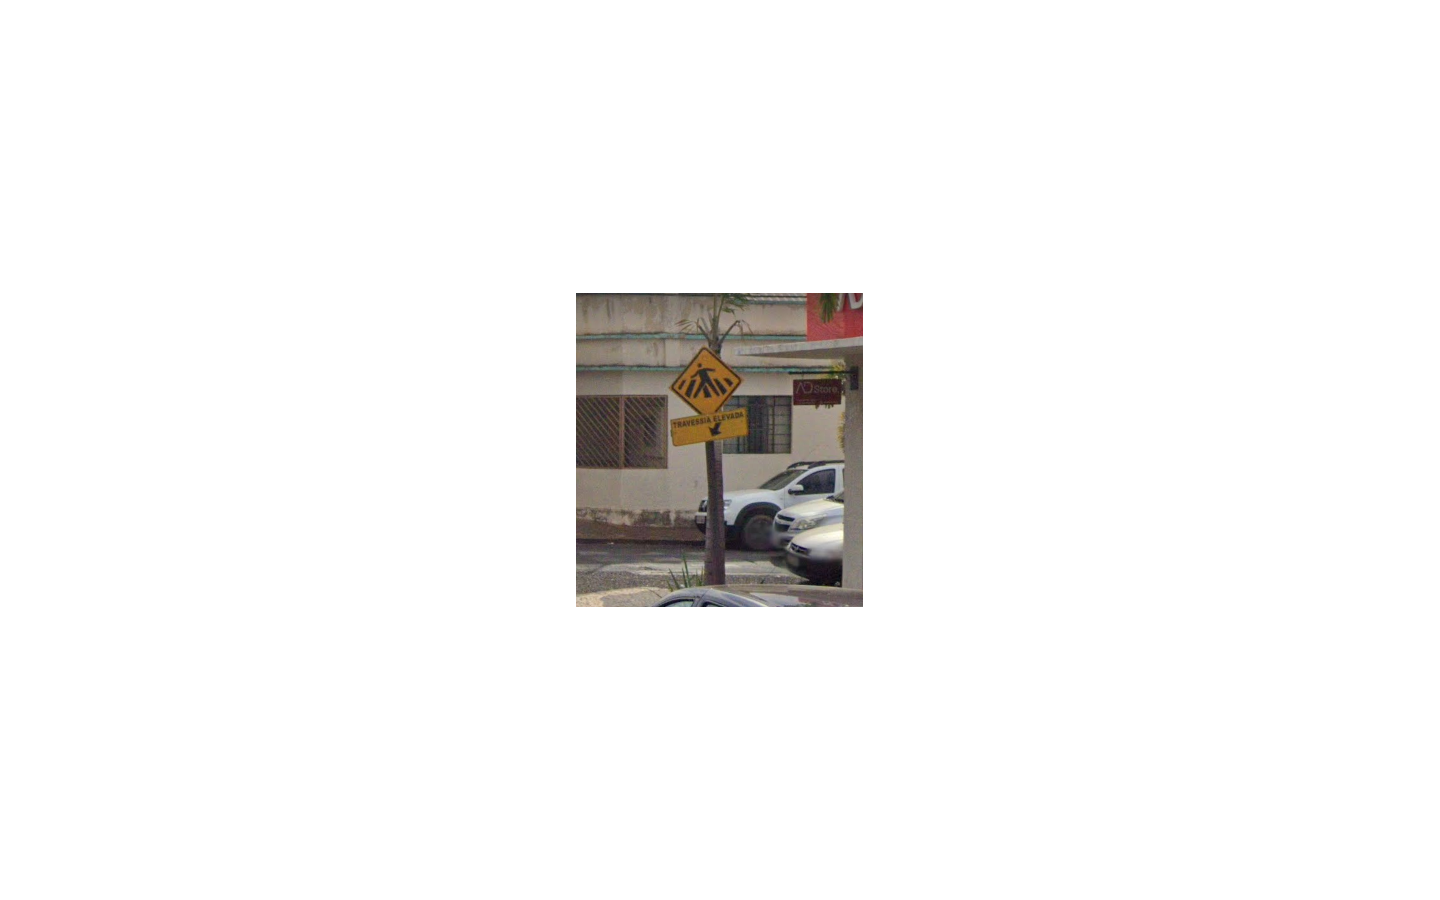telev: (668, 347, 749, 446)
